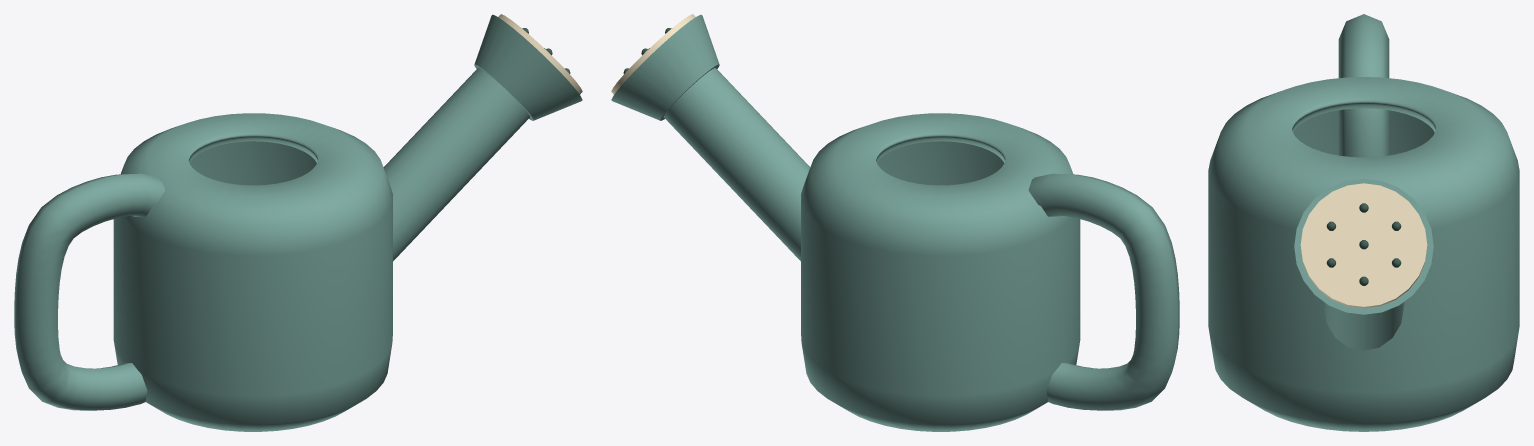
The model's file is watering-can-fixed-stage-v2.glb.
The picture shows the model from 3 angles, left to right: view 1: azimuth 30°, elevation 25°; view 2: azimuth 150°, elevation 25°; view 3: azimuth 270°, elevation 25°; orthographic projection. The views are drawn at different scales.
Parts seen in each view (by area): view 1: Can_hollow_body, Can_handle, Can_spout, Can_rose, Can_rose_face; view 2: Can_hollow_body, Can_handle, Can_spout, Can_rose, Can_rose_face; view 3: Can_hollow_body, Can_rose_face, Can_handle, Can_rose, Can_spout.
Part boxes in pixels (left/top/right/bottom): Can_hollow_body: left=113, top=113, right=392, bottom=431; Can_handle: left=14, top=173, right=165, bottom=410; Can_spout: left=383, top=68, right=529, bottom=261; Can_rose: left=474, top=14, right=582, bottom=120; Can_rose_face: left=498, top=14, right=582, bottom=94; Can_hollow_body: left=801, top=113, right=1080, bottom=431; Can_handle: left=1028, top=173, right=1179, bottom=410; Can_spout: left=664, top=68, right=810, bottom=261; Can_rose: left=611, top=14, right=719, bottom=120; Can_rose_face: left=611, top=14, right=695, bottom=94; Can_hollow_body: left=1208, top=77, right=1519, bottom=431; Can_rose_face: left=1300, top=183, right=1427, bottom=308; Can_handle: left=1338, top=14, right=1389, bottom=157; Can_rose: left=1294, top=178, right=1433, bottom=314; Can_spout: left=1323, top=302, right=1404, bottom=350.
Size of the model in its own units: 1.06 by 0.5548 by 0.464.
